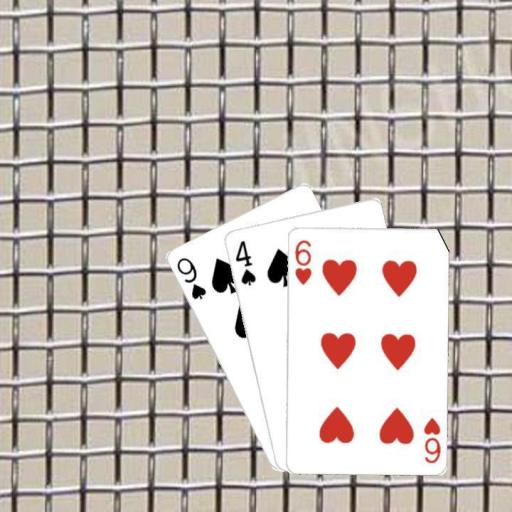card-corner: (172, 254, 208, 301), (231, 236, 258, 286), (420, 414, 442, 464), (291, 236, 312, 286)
